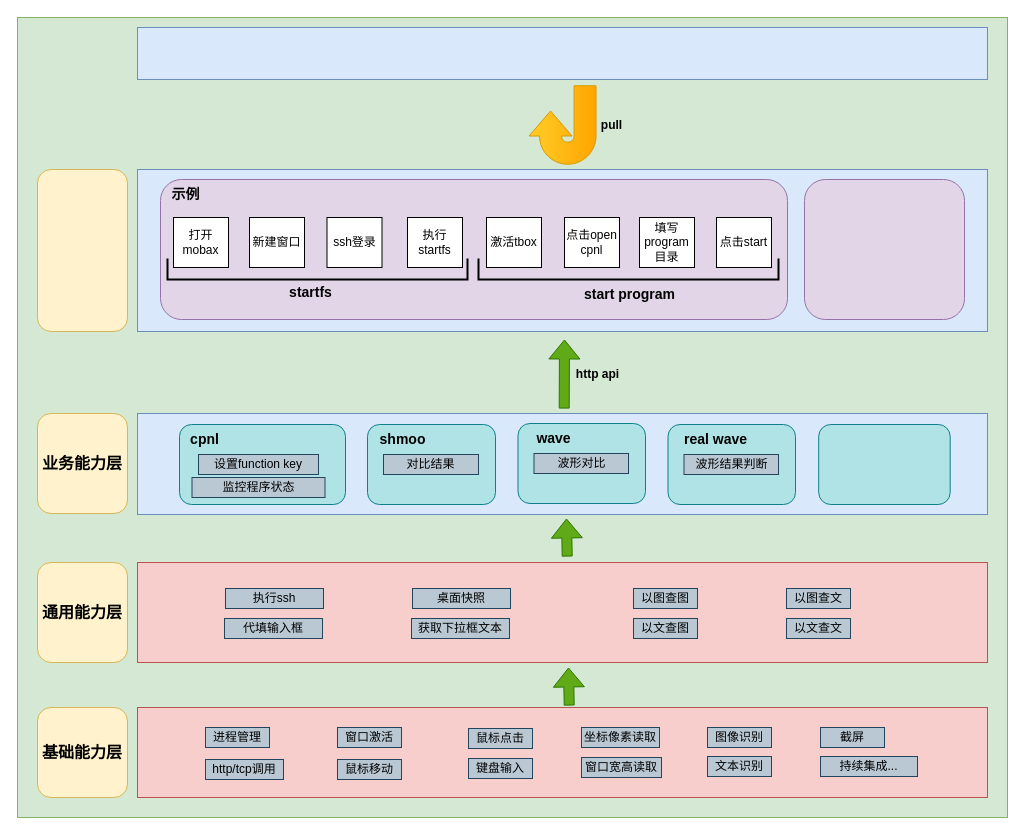
This 1025x835 diagram has some shape labels left out. Here are the shapes that lost their labels. From the top down, the centre of each, then its label:
[562,53]: Jekins
[82,250]: 用例层
[884,249]: robot framework
[884,464]: 其他
